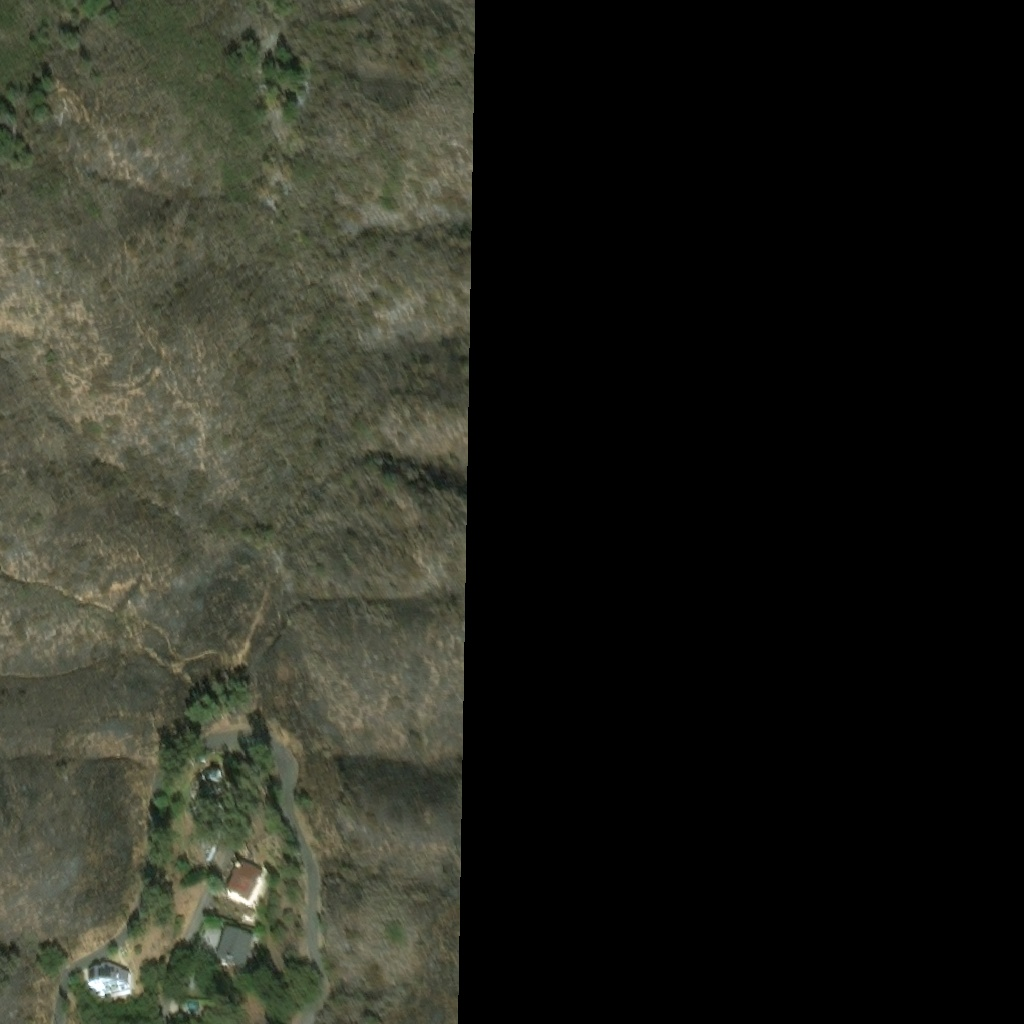0 no-damage: (226, 854, 266, 903), (214, 923, 253, 972), (86, 963, 130, 988)
4 un-classified: (191, 772, 223, 816)
